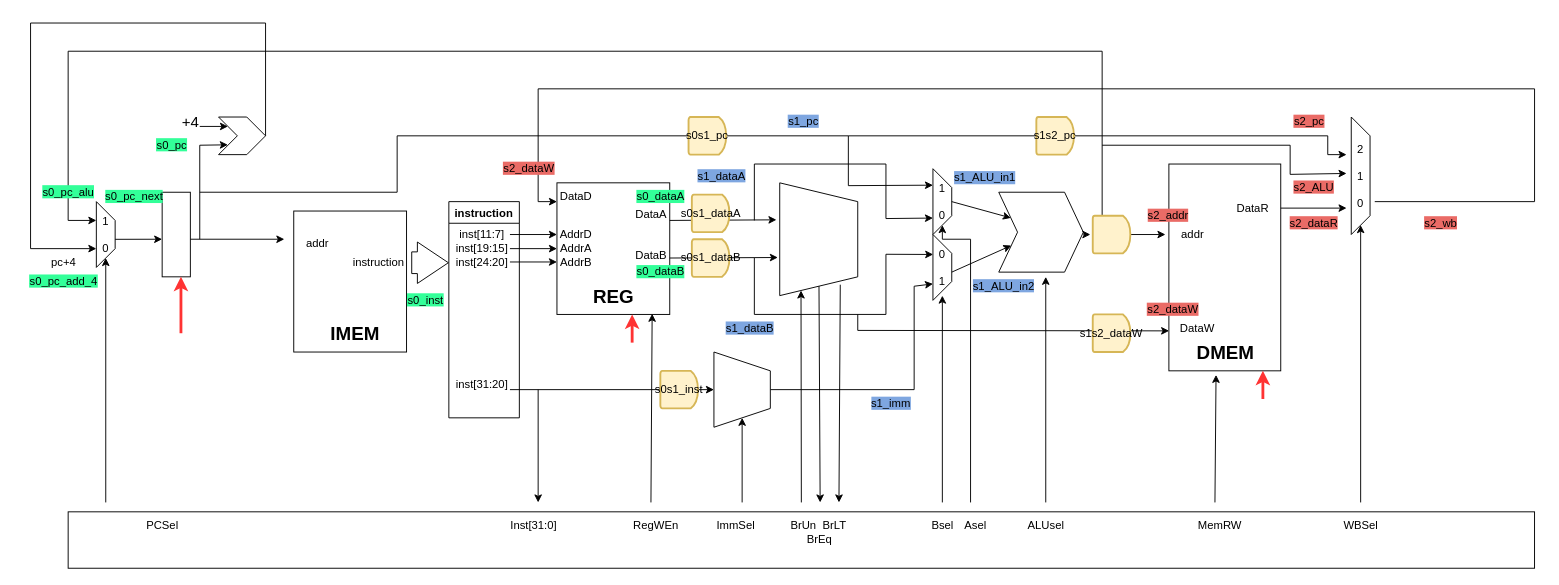
Some shapes in this 1559 by 585 pixel diagram are drawn without their labels. Each missing label, with the box of its shape:
add: (218, 116, 266, 155)
ALU: (998, 191, 1083, 272)
Branch Comp: (779, 182, 858, 296)
Imm. Gen: (713, 351, 770, 427)
PC: (161, 191, 190, 277)
s1s2_alu: (1091, 214, 1131, 254)
